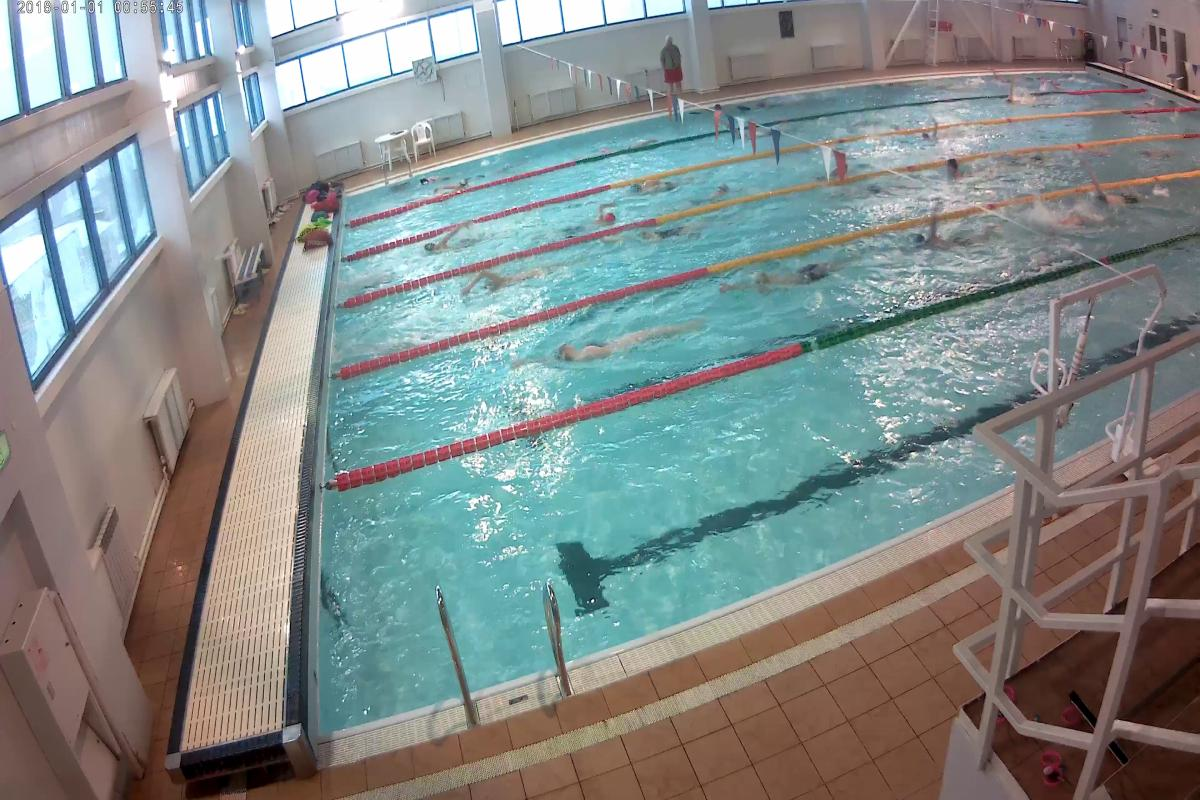swimmer: (536, 308, 705, 382), (720, 251, 852, 301), (469, 260, 559, 308), (910, 216, 1004, 251), (643, 214, 714, 251), (421, 232, 473, 253), (933, 154, 974, 180), (623, 177, 682, 194), (708, 177, 740, 205), (586, 204, 624, 224)
